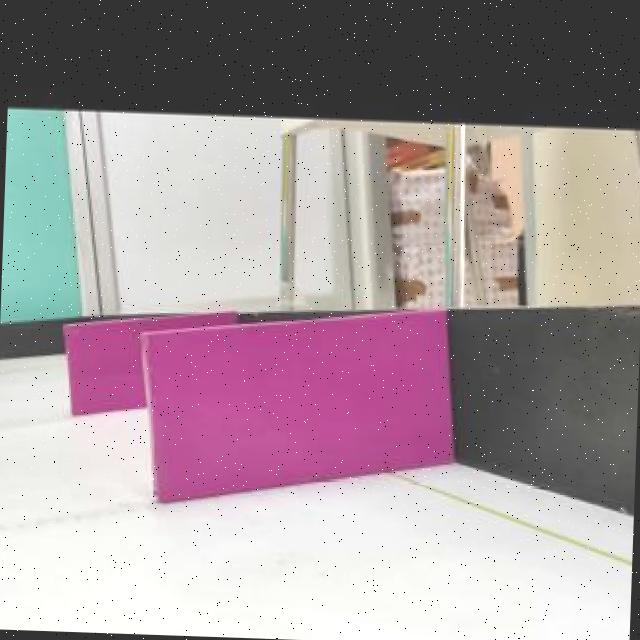xparking: (144, 313, 453, 503), (66, 319, 144, 415)
